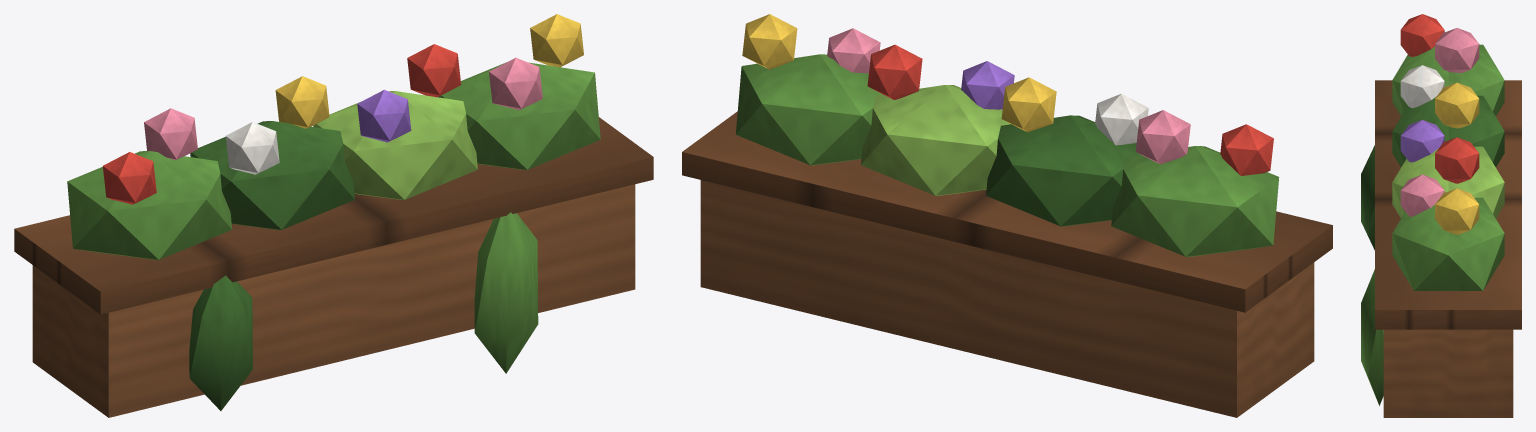
Rendered from prop_flowerbox_01.glb.
3 renders of one model, left to right at view 1: azimuth 30°, elevation 25°; view 2: azimuth 150°, elevation 25°; view 3: azimuth 270°, elevation 25°, orthographic. The views are drawn at different scales.
Visible parts, largest first — view 1: prop_flowerbox_01; view 2: prop_flowerbox_01; view 3: prop_flowerbox_01.
Boxes of the visible parts, x1,y1,x2,y2 form: prop_flowerbox_01: (14, 14, 653, 417); prop_flowerbox_01: (682, 14, 1332, 417); prop_flowerbox_01: (1361, 14, 1521, 417).
Size of the model in its own units: 1.26 by 0.66 by 0.3725.
1 material, 1 textured.
